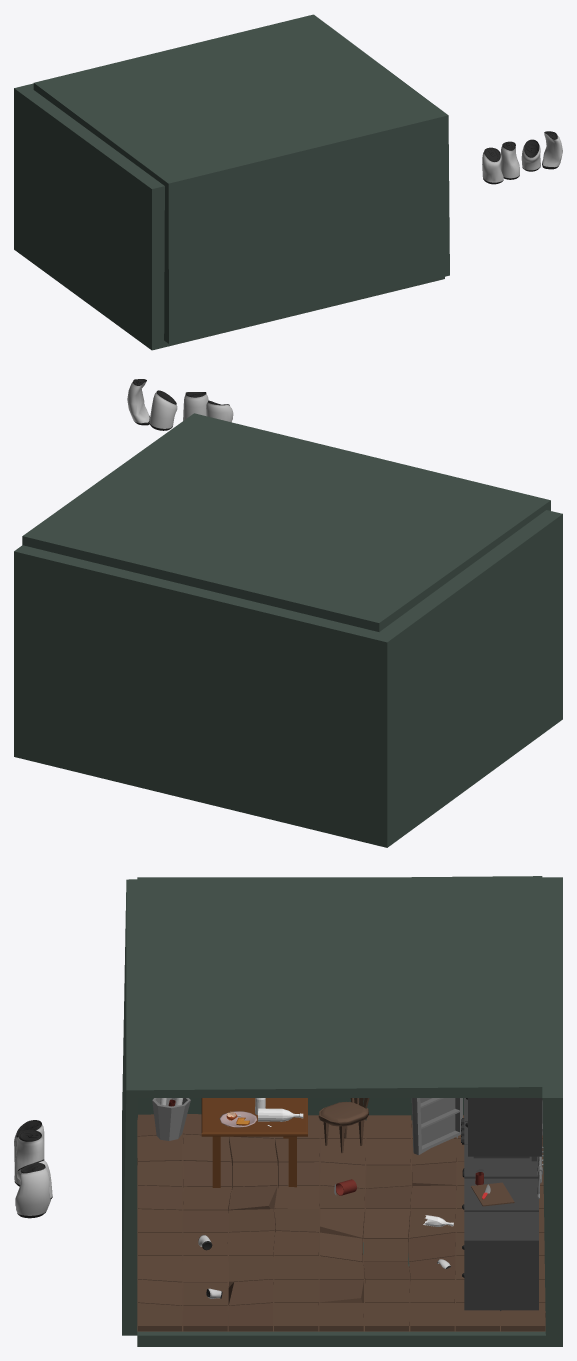
File: kitchen_fix (1).fbx
3 views of the same model, one above another, from view 1: azimuth 30°, elevation 25°; view 2: azimuth 150°, elevation 25°; view 3: azimuth 270°, elevation 25° (orthographic). The views are drawn at different scales.
Parts seen in each view (by area): view 1: Plane.013, Can.001, Can003.001, Can001.001, Can002.002; view 2: Plane.013, Can002.002, Can003.001, Can001.001; view 3: Plane.013, Can003.001, Can001.001.
Part boxes in pixels (x1,y1,x2,y2): Plane.013: (14,14,449,350); Can.001: (482,147,503,184); Can003.001: (542,131,562,169); Can001.001: (500,141,519,179); Can002.002: (521,139,540,171); Plane.013: (14,413,562,847); Can002.002: (149,390,177,430); Can003.001: (127,379,149,425); Can001.001: (183,392,208,420); Plane.013: (122,876,562,1346); Can003.001: (15,1162,50,1218); Can001.001: (14,1129,44,1186).
Bounding box in the file's own units: 1789 × 770 × 1472.
